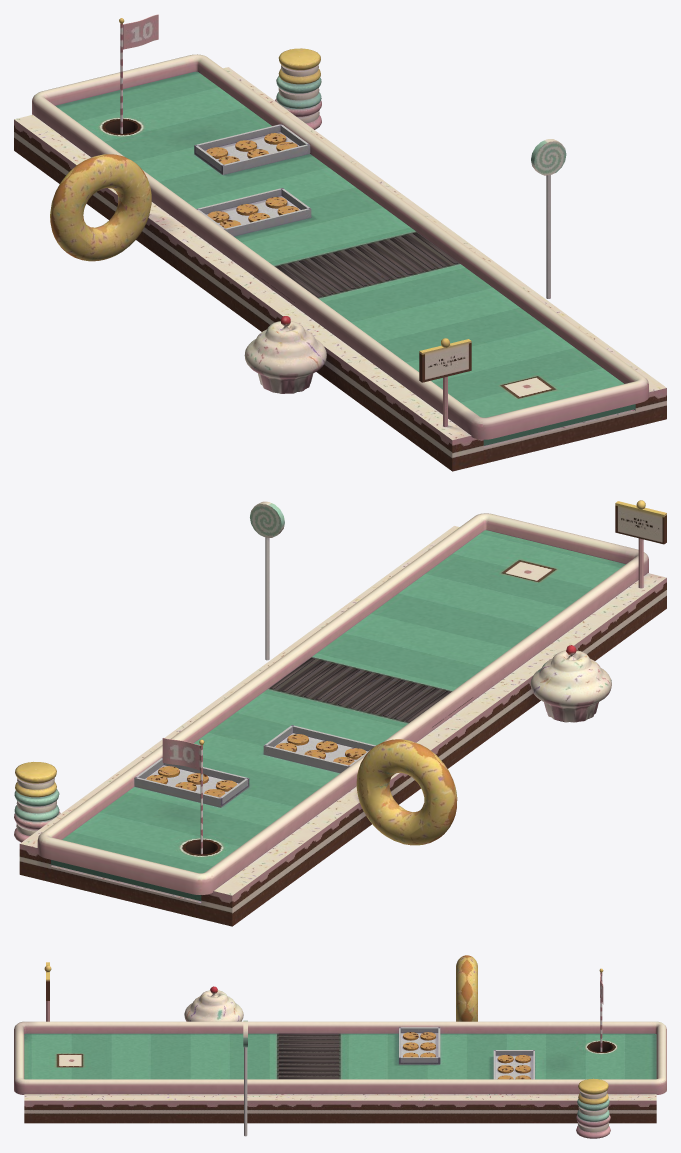
File: hole10.glb
3 renders of one model, top to bottom at view 1: azimuth 30°, elevation 25°; view 2: azimuth 150°, elevation 25°; view 3: azimuth 270°, elevation 25°, orthographic. The views are drawn at different scales.
Parts seen in each view (by area): view 1: Green, Rails, Base, Decor4, CookieTrays, Decor1, Decor3, ConveyorSlats, Cookies, HoleSign, Decor2, Flag; view 2: Green, Rails, Base, Decor4, CookieTrays, Decor1, Decor3, ConveyorSlats, HoleSign, Cookies, Decor2, Flag; view 3: Green, Rails, Base, CookieTrays, Decor3, Decor1, ConveyorSlats, Decor4, Cookies, Decor2.
Part boxes in pixels (bbox=[...]): Green: bbox=[55, 71, 635, 445]; Rails: bbox=[32, 54, 648, 439]; Base: bbox=[14, 67, 666, 471]; Decor4: bbox=[50, 154, 151, 261]; CookieTrays: bbox=[194, 124, 311, 236]; Decor1: bbox=[244, 316, 326, 393]; Decor3: bbox=[275, 48, 321, 129]; ConveyorSlats: bbox=[256, 232, 457, 302]; Cookies: bbox=[206, 133, 299, 228]; HoleSign: bbox=[419, 338, 471, 426]; Decor2: bbox=[531, 139, 566, 298]; Flag: bbox=[119, 14, 158, 133]; Green: bbox=[51, 530, 625, 901]; Rails: bbox=[37, 513, 648, 894]; Base: bbox=[19, 526, 666, 926]; Decor4: bbox=[356, 739, 457, 845]; CookieTrays: bbox=[134, 725, 375, 807]; Decor1: bbox=[530, 645, 611, 722]; Decor3: bbox=[14, 762, 60, 842]; ConveyorSlats: bbox=[270, 658, 472, 727]; HoleSign: bbox=[615, 500, 666, 588]; Cookies: bbox=[146, 734, 366, 797]; Decor2: bbox=[250, 501, 284, 660]; Flag: bbox=[162, 738, 204, 854]; Green: bbox=[24, 1033, 656, 1079]; Rails: bbox=[14, 1021, 666, 1094]; Base: bbox=[24, 1094, 656, 1123]; CookieTrays: bbox=[399, 1027, 534, 1079]; Decor3: bbox=[576, 1078, 610, 1138]; Decor1: bbox=[184, 986, 243, 1021]; ConveyorSlats: bbox=[279, 1033, 338, 1078]; Decor4: bbox=[456, 955, 477, 1021]; Cookies: bbox=[403, 1032, 530, 1079]; Decor2: bbox=[243, 1020, 247, 1136].
Size of what is drawn, in the model's own units: 3.79 by 1.6 by 8.26.
1 material, 1 textured.
